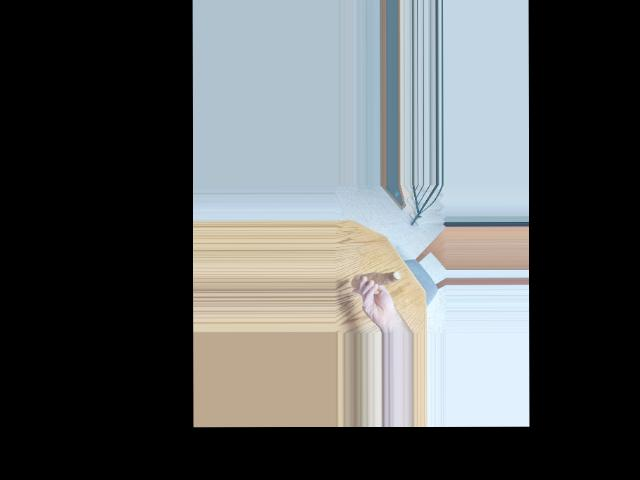sweet_potato: (351, 271, 405, 287)
